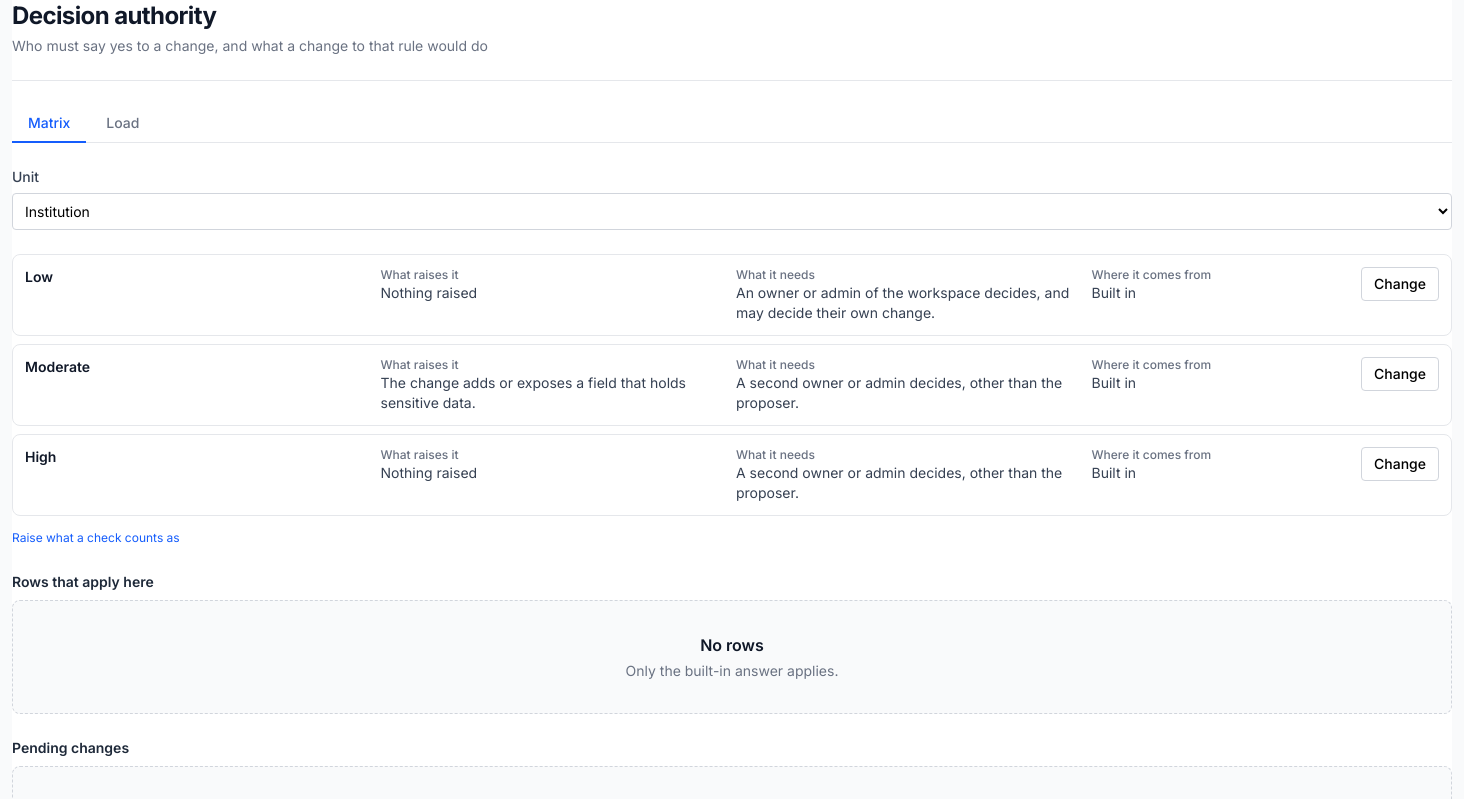
Test: Decision authority › keeps Propose change disabled until the effect is shown, and disables it again when a value changes
Click the button "Change" in the row of "Moderate".
click(1400, 374)  # box [1361,357,1439,391]
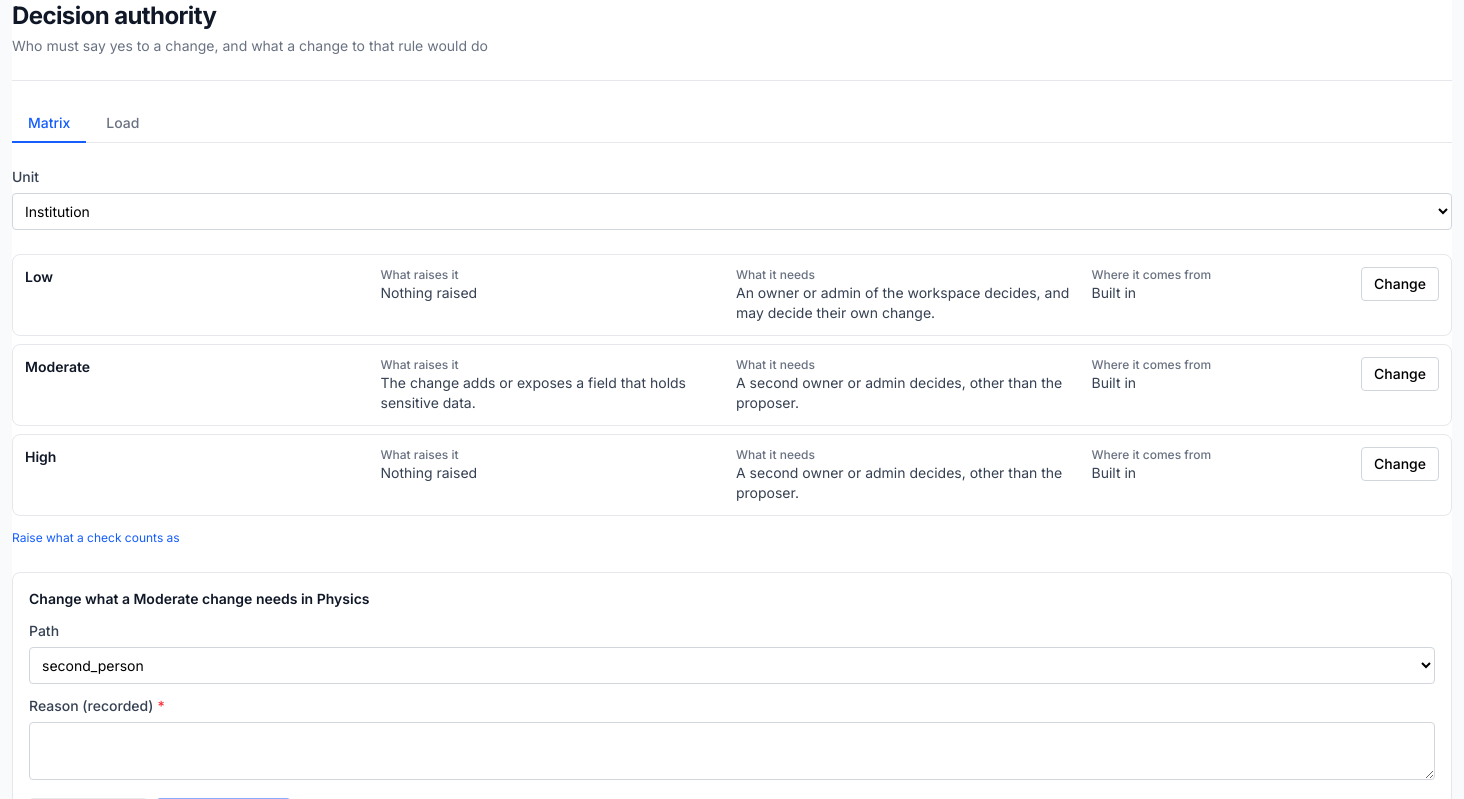
Select "approver" in the dropdown labelled "Path" at coordinates (732, 666), box [29,647,1435,684]
(page scrolled)
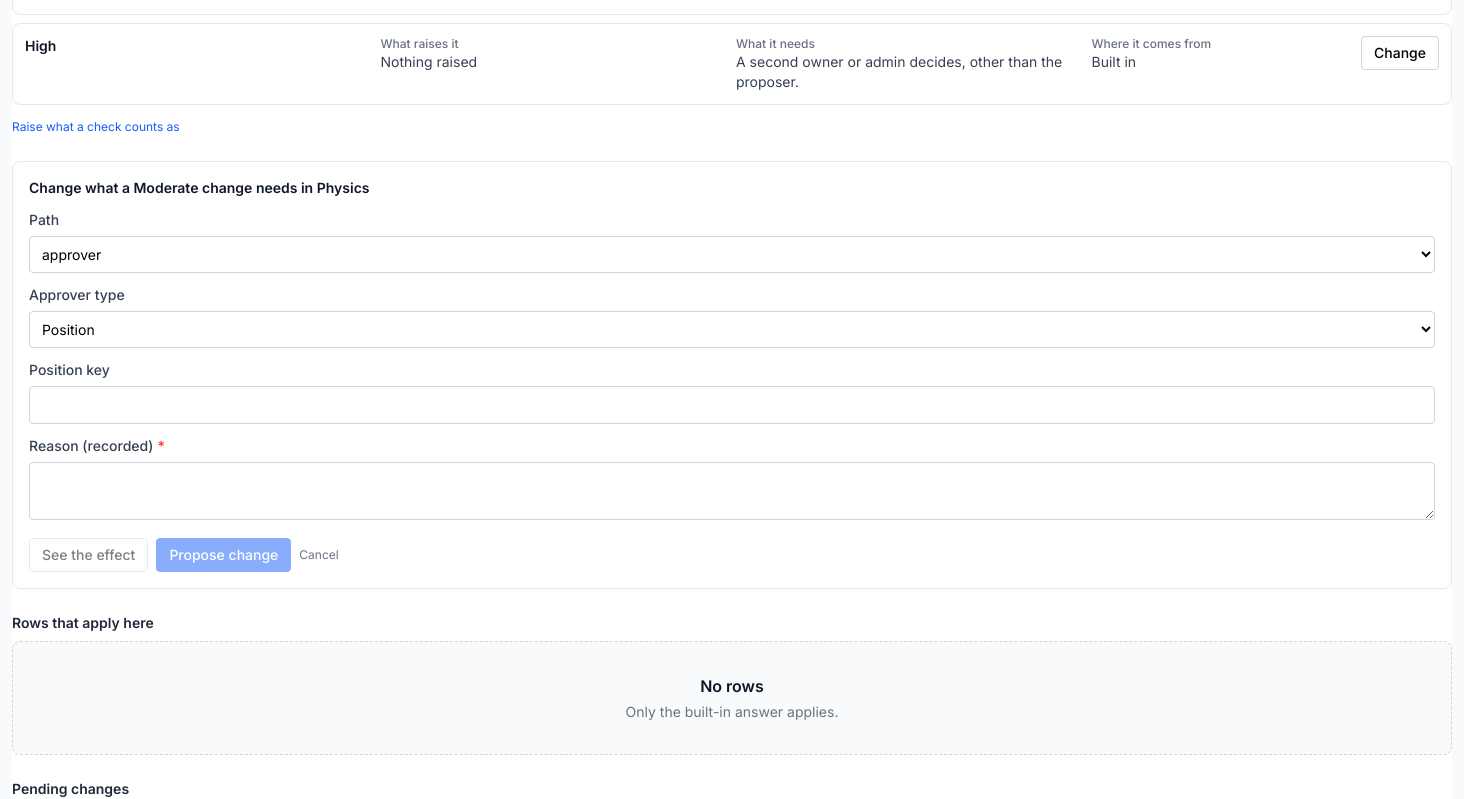
Type "privacy-officer" into the field labelled "Position key".
click(732, 405); type("privacy-officer")  # box [29,386,1435,424]
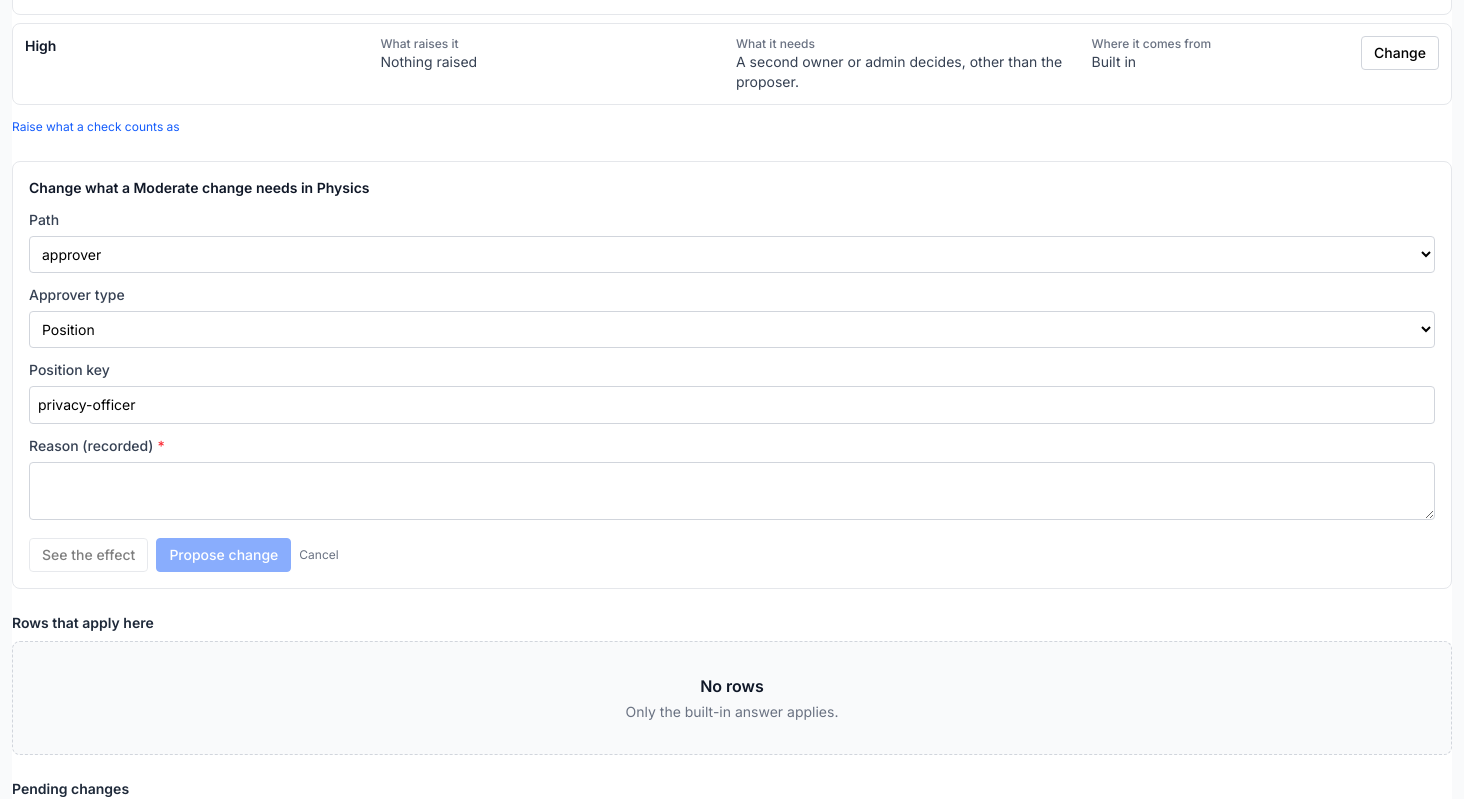
Type "Privacy review" into the text box labelled "Reason (recorded)*".
click(732, 491); type("Privacy review")  # box [29,462,1435,520]
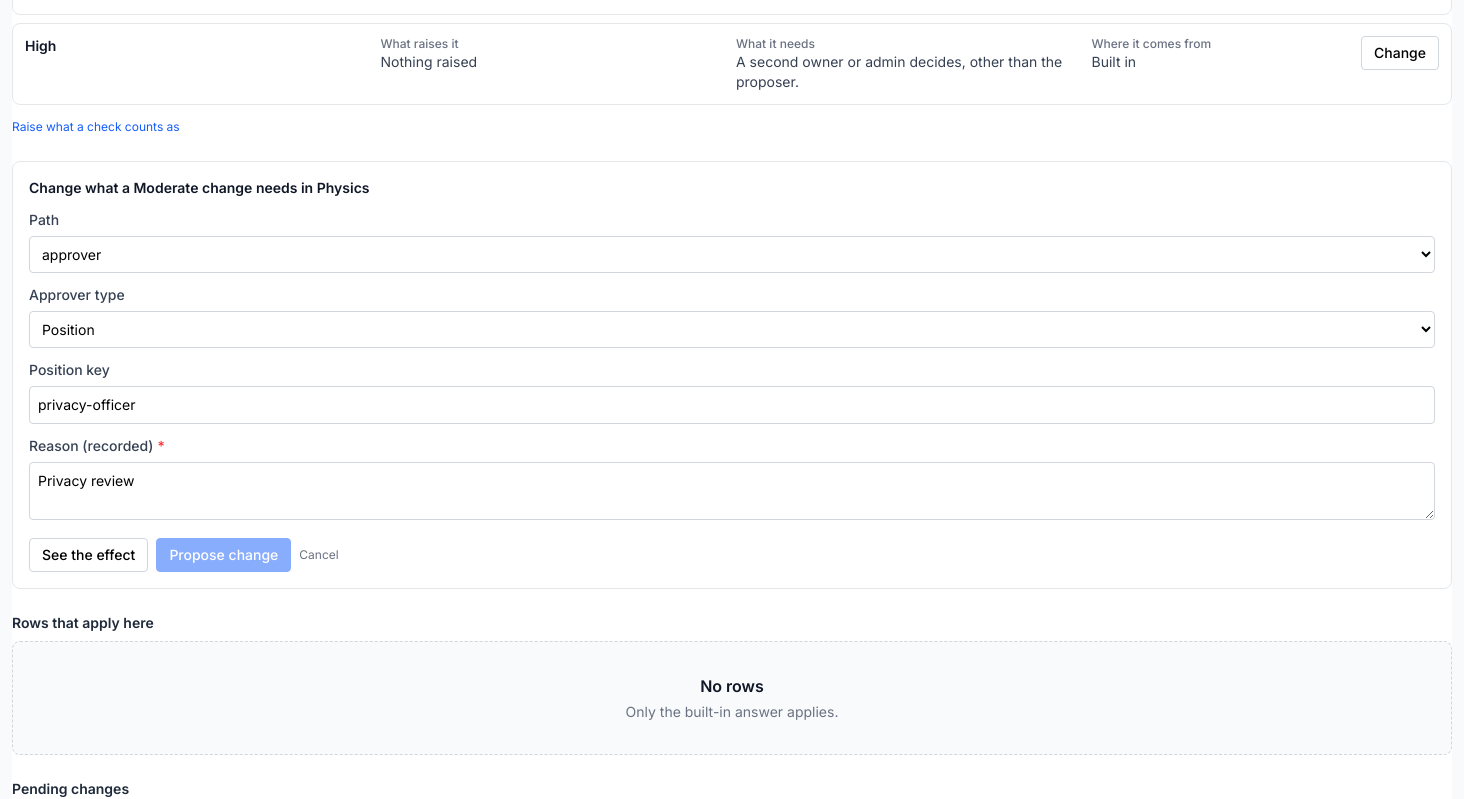
Expected: the button "Propose change" is disabled, [156,538,291,572]
Click the button "See the effect".
click(89, 555)  # box [29,538,148,572]
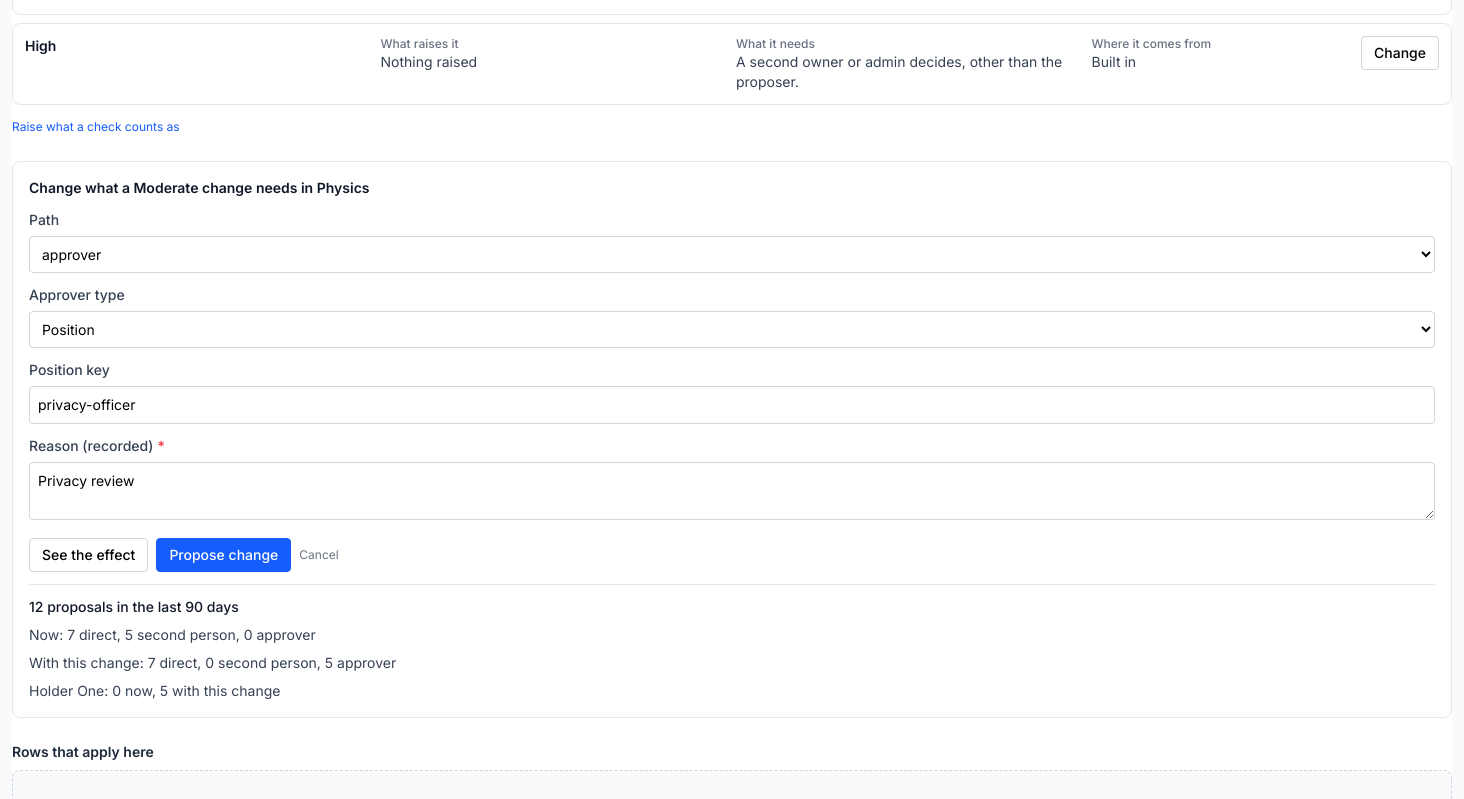
Expected: the element with test id "authority-effect" shows "12 proposals in the last 90 days", [29,584,1435,701]
Expected: the list item "Holder One: 0 now, 5 with this change" is shown, [29,682,280,699]
Expected: the button "Propose change" is enabled, [156,538,291,572]
Replace the text in the field labelled "Position key" with "dean" at coordinates (732, 405), box [29,386,1435,424]
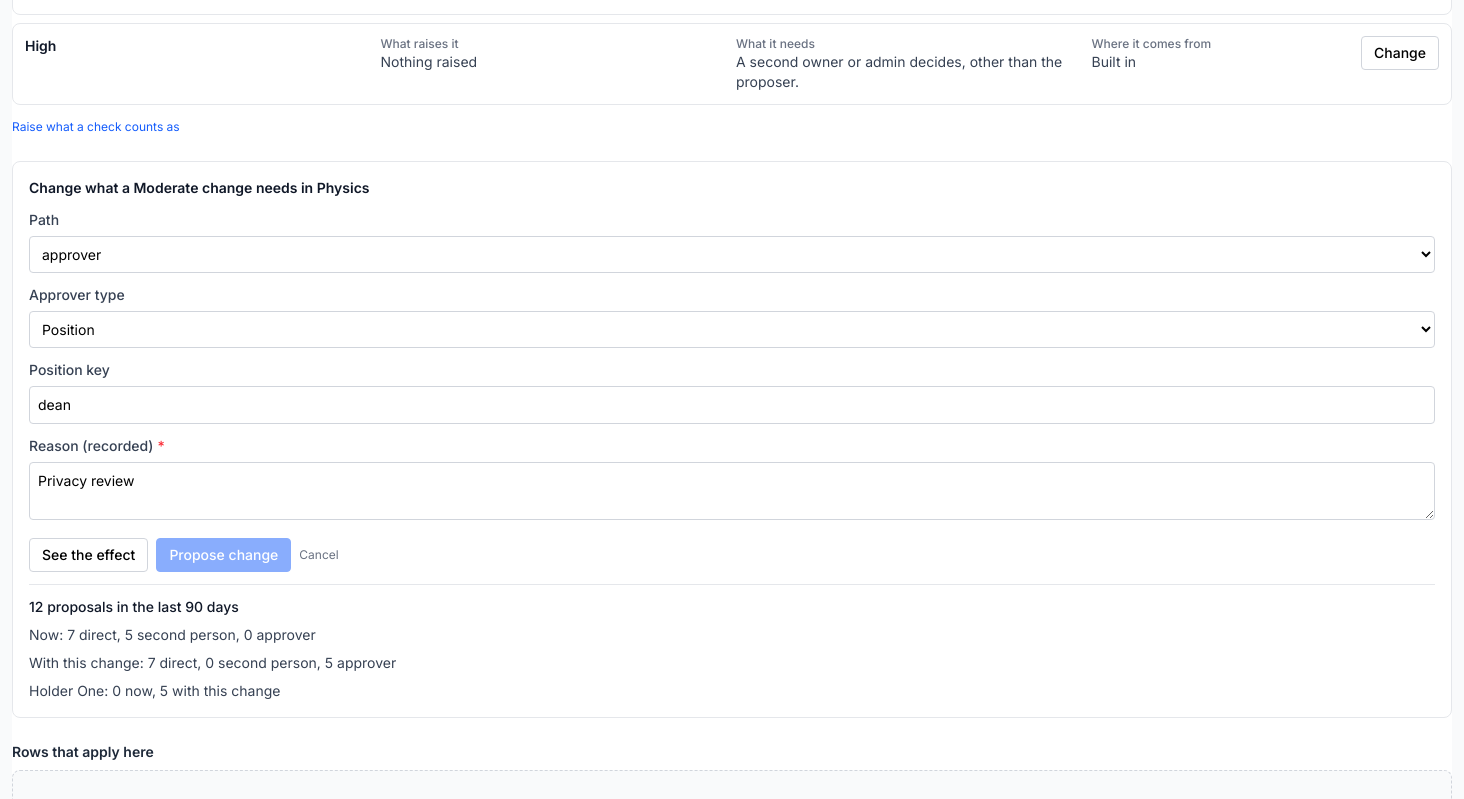
Expected: the button "Propose change" is disabled, [156,538,291,572]
